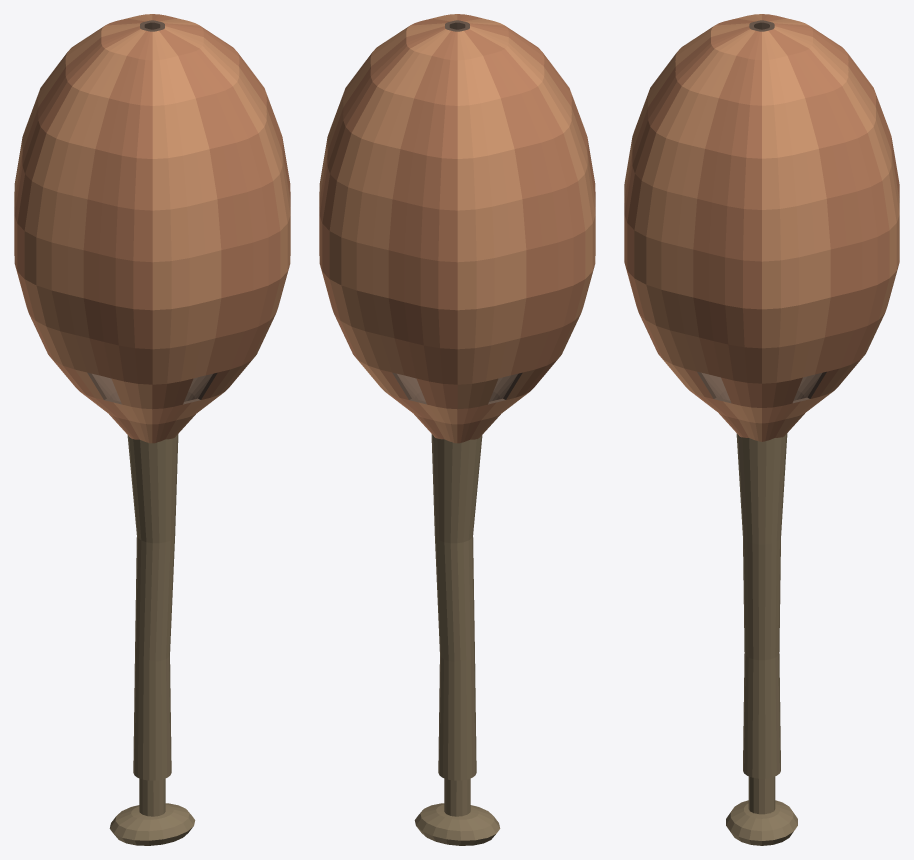
3 views of the same model, side by side, from view 1: azimuth 30°, elevation 25°; view 2: azimuth 150°, elevation 25°; view 3: azimuth 270°, elevation 25° (orthographic).
Parts seen in each view (by area): view 1: complete_ovoid_sheath_six_basal_ports_terminal_anus, outer_stem_sleeve_ending_above_holdfast, small_flattened_bulbous_holdfast, continuous_inner_stem; view 2: complete_ovoid_sheath_six_basal_ports_terminal_anus, outer_stem_sleeve_ending_above_holdfast, small_flattened_bulbous_holdfast, continuous_inner_stem; view 3: complete_ovoid_sheath_six_basal_ports_terminal_anus, outer_stem_sleeve_ending_above_holdfast, small_flattened_bulbous_holdfast, continuous_inner_stem.
Boxes of the visible parts, x1=… form: complete_ovoid_sheath_six_basal_ports_terminal_anus: x1=14, y1=14, x2=290, y2=443; outer_stem_sleeve_ending_above_holdfast: x1=127, y1=434, x2=178, y2=780; small_flattened_bulbous_holdfast: x1=109, y1=803, x2=195, y2=845; continuous_inner_stem: x1=139, y1=778, x2=165, y2=816; complete_ovoid_sheath_six_basal_ports_terminal_anus: x1=319, y1=14, x2=595, y2=443; outer_stem_sleeve_ending_above_holdfast: x1=431, y1=434, x2=482, y2=780; small_flattened_bulbous_holdfast: x1=414, y1=803, x2=500, y2=845; continuous_inner_stem: x1=444, y1=778, x2=470, y2=816; complete_ovoid_sheath_six_basal_ports_terminal_anus: x1=624, y1=14, x2=899, y2=441; outer_stem_sleeve_ending_above_holdfast: x1=736, y1=433, x2=787, y2=778; small_flattened_bulbous_holdfast: x1=726, y1=800, x2=797, y2=845; continuous_inner_stem: x1=748, y1=776, x2=775, y2=814.
Size of the model in its own units: 0.0724 by 0.22 by 0.0677.
